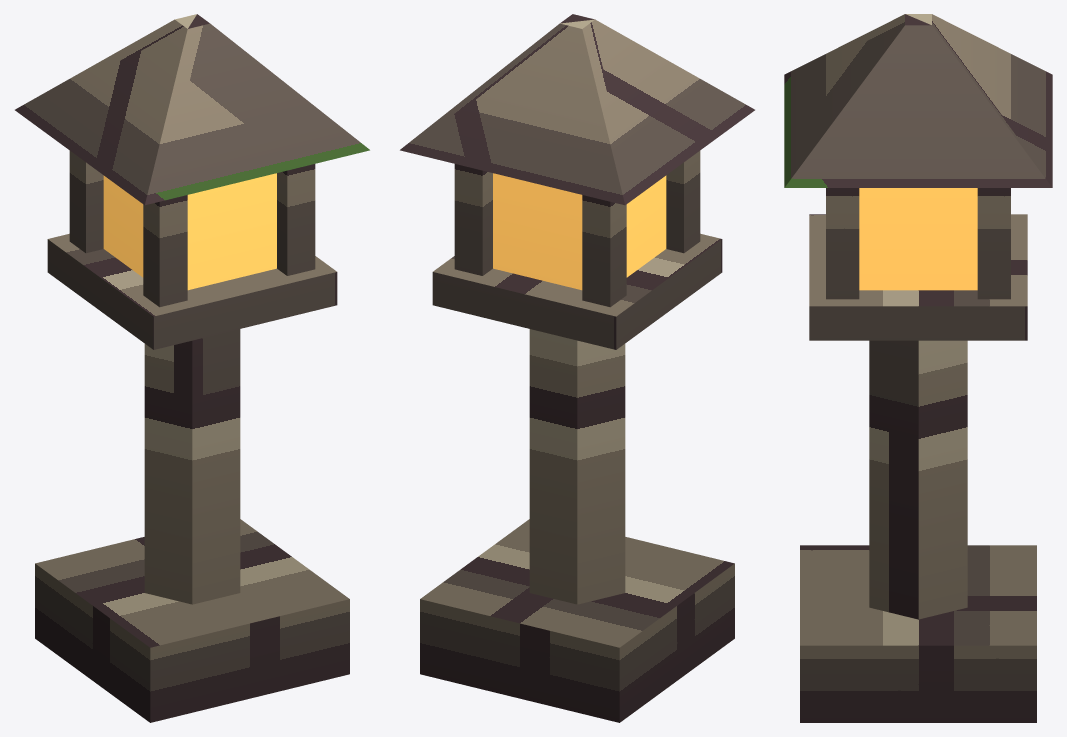
Rendered from stone_lantern.glb.
3 views of the same model, side by side, from view 1: azimuth 30°, elevation 25°; view 2: azimuth 150°, elevation 25°; view 3: azimuth 270°, elevation 25° (orthographic). The views are drawn at different scales.
Visible parts, largest first — view 1: stone_lantern; view 2: stone_lantern; view 3: stone_lantern.
Part boxes in pixels (x1,y1,x2,y2): stone_lantern: [15, 14, 369, 722]; stone_lantern: [400, 14, 754, 722]; stone_lantern: [784, 14, 1052, 722].
Bounding box in the file's own units: 0.5657 × 1.52 × 0.5657.
3 materials, 1 textured.
